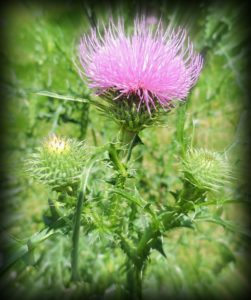thistle: (74, 23, 203, 133)
